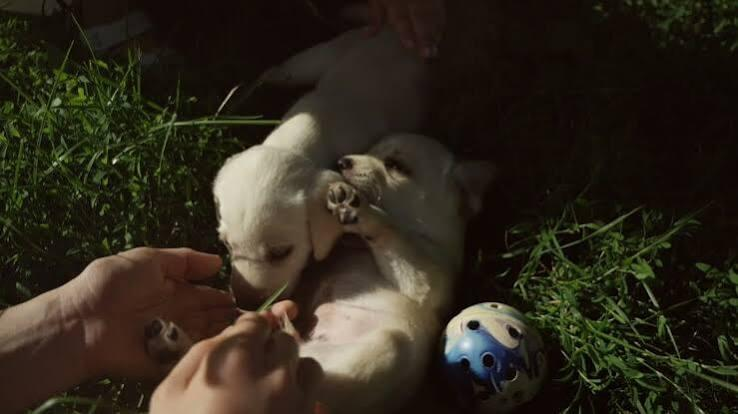puppy-dog: (144, 133, 499, 414), (210, 24, 448, 313)
